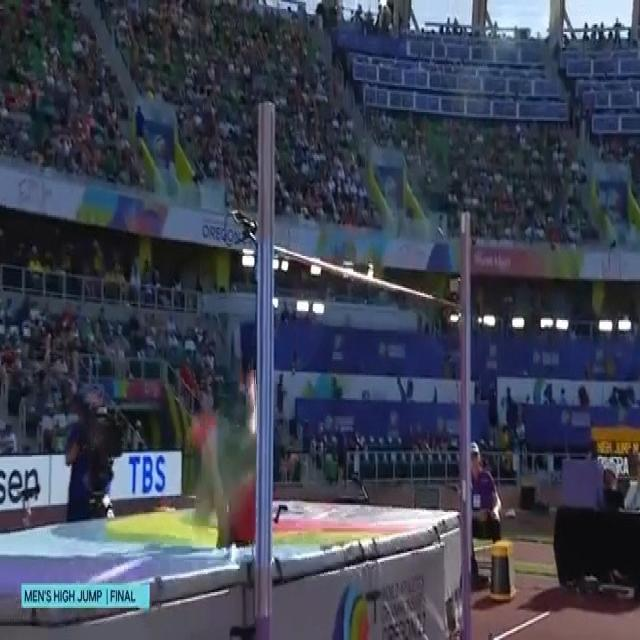land: (189, 366, 257, 548)
